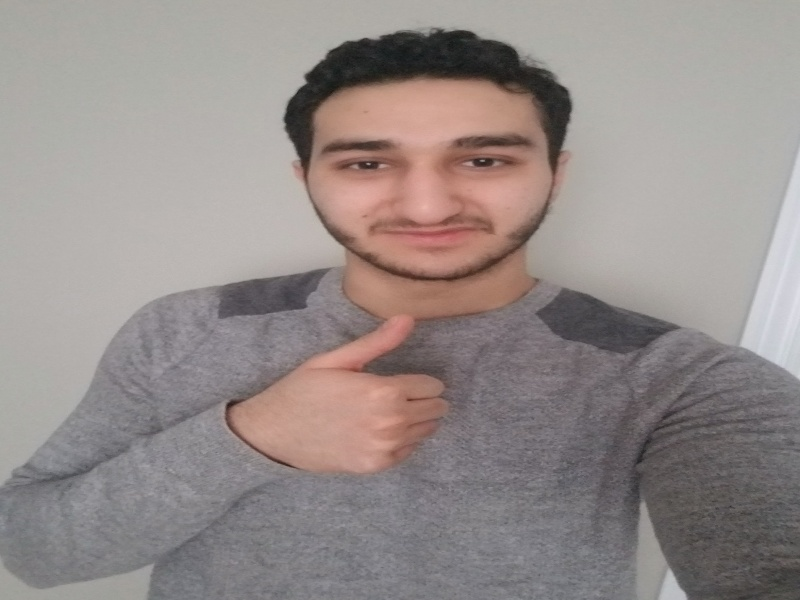thumbup: (273, 313, 451, 483)
